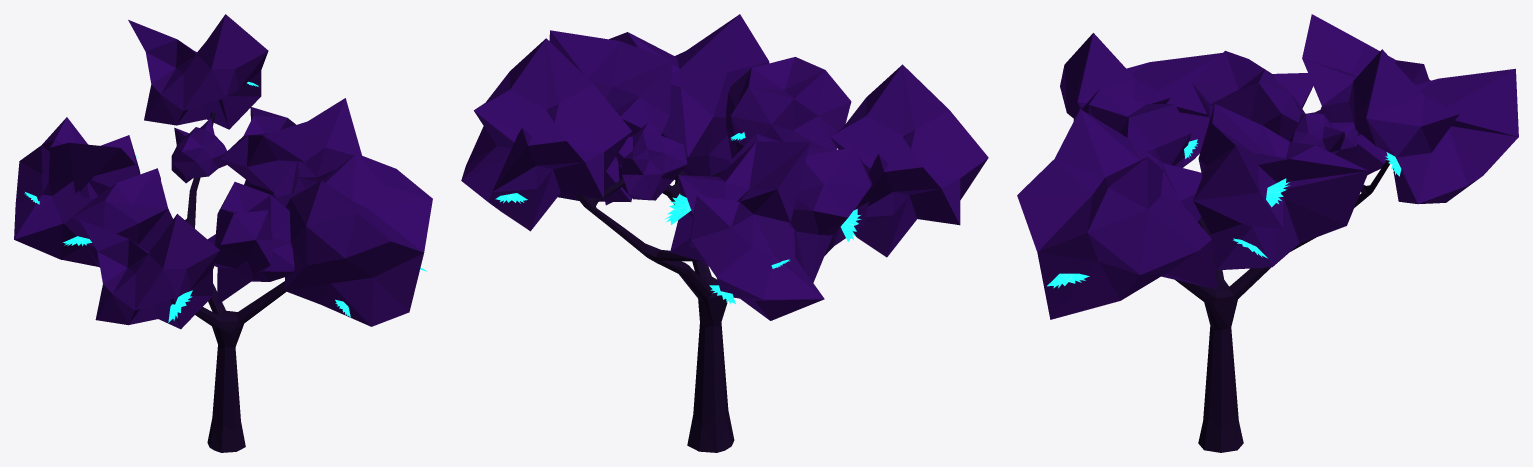
The picture shows the model from 3 angles, left to right: view 1: azimuth 30°, elevation 25°; view 2: azimuth 150°, elevation 25°; view 3: azimuth 270°, elevation 25°; orthographic projection. The views are drawn at different scales.
Parts seen in each view (by area): view 1: Icosphere.007, Icosphere.008, Icosphere.002, Icosphere, Icosphere.006, Icosphere.004, Icosphere.003, Plane, Icosphere.005; view 2: Icosphere.008, Icosphere, Icosphere.002, Icosphere.007, Icosphere.004, Plane, Icosphere.006, Icosphere.003, Icosphere.005; view 3: Icosphere.007, Icosphere.006, Icosphere.008, Icosphere.002, Plane, Icosphere.003, Icosphere, Icosphere.004, Icosphere.005.
Part boxes in pixels (left/top/right/bottom): Icosphere.007: left=275, top=153, right=432, bottom=326; Icosphere.008: left=128, top=14, right=268, bottom=129; Icosphere.002: left=80, top=214, right=219, bottom=329; Icosphere: left=14, top=117, right=140, bottom=259; Icosphere.006: left=219, top=98, right=361, bottom=197; Icosphere.004: left=207, top=182, right=294, bottom=304; Icosphere.003: left=59, top=168, right=172, bottom=267; Plane: left=185, top=111, right=286, bottom=452; Icosphere.005: left=171, top=118, right=226, bottom=183; Icosphere.008: left=461, top=38, right=632, bottom=231; Icosphere: left=670, top=141, right=824, bottom=320; Icosphere.002: left=830, top=64, right=988, bottom=257; Icosphere.007: left=605, top=14, right=769, bottom=205; Icosphere.004: left=726, top=57, right=851, bottom=158; Plane: left=575, top=170, right=734, bottom=452; Icosphere.006: left=549, top=30, right=672, bottom=201; Icosphere.003: left=729, top=133, right=872, bottom=282; Icosphere.005: left=616, top=122, right=687, bottom=200; Icosphere.007: left=1017, top=109, right=1217, bottom=319; Icosphere.006: left=1193, top=104, right=1368, bottom=270; Icosphere.008: left=1348, top=49, right=1518, bottom=204; Icosphere.002: left=1060, top=33, right=1222, bottom=166; Plane: left=1175, top=160, right=1389, bottom=452; Icosphere.003: left=1192, top=50, right=1313, bottom=141; Icosphere: left=1302, top=14, right=1430, bottom=174; Icosphere.004: left=1073, top=87, right=1191, bottom=167; Icosphere.005: left=1289, top=112, right=1358, bottom=163.
Size of the model in its own units: 8.03 by 8.64 by 9.01.
3 materials, 1 textured.
